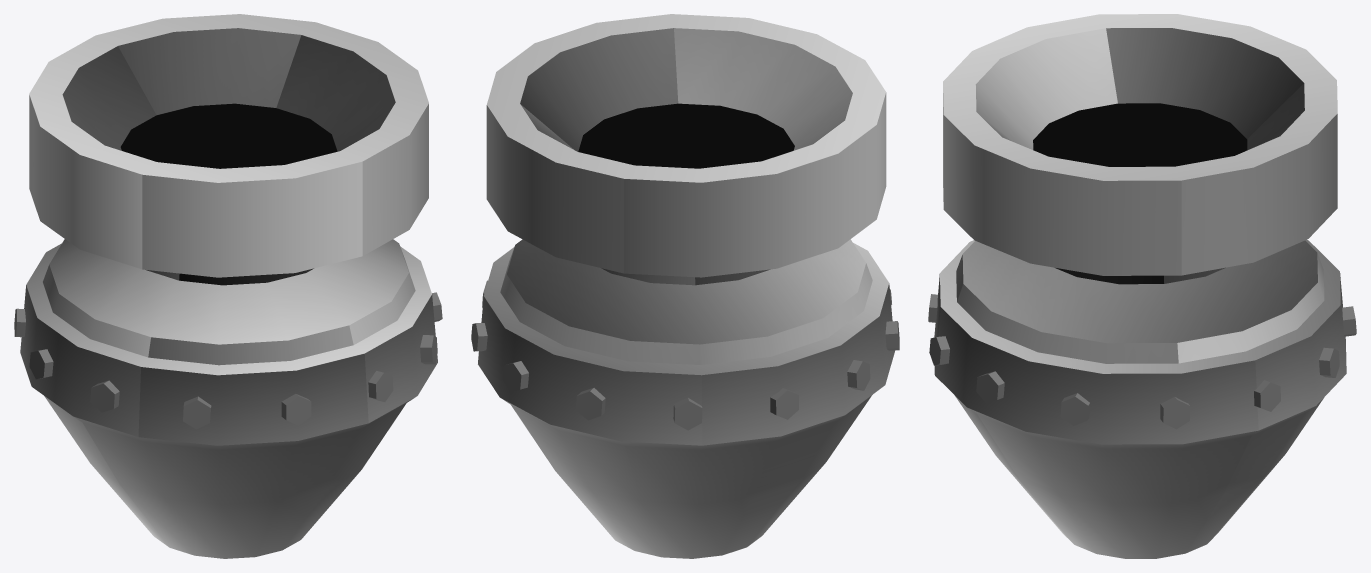
Rendered from Chimney-1.glb.
3 views of the same model, side by side, from view 1: azimuth 30°, elevation 25°; view 2: azimuth 150°, elevation 25°; view 3: azimuth 270°, elevation 25° (orthographic).
Parts seen in each view (by area): view 1: Cylinder.010; view 2: Cylinder.010; view 3: Cylinder.010.
Boxes of the visible parts, bbox=[...] form: Cylinder.010: bbox=[14, 14, 442, 558]; Cylinder.010: bbox=[471, 14, 899, 558]; Cylinder.010: bbox=[928, 14, 1356, 558].
Bounding box in the file's own units: 1.43 × 1.57 × 1.42.
Materials: 2 (1 with a texture image).
